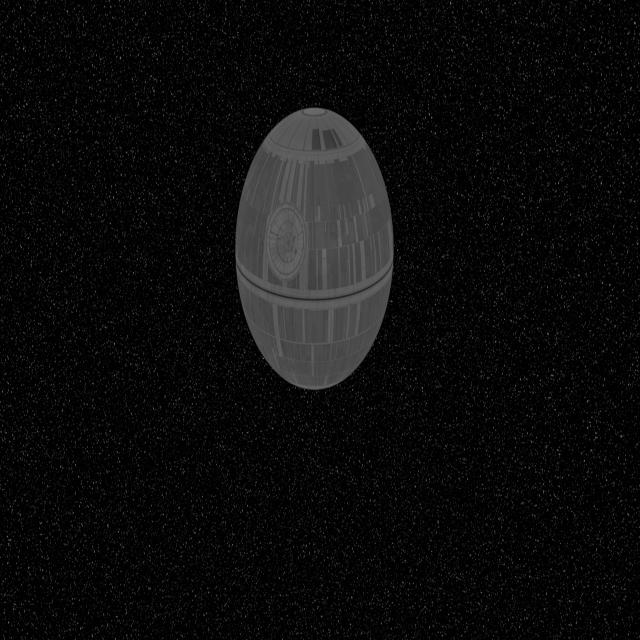death-stars: (235, 108, 394, 392)
